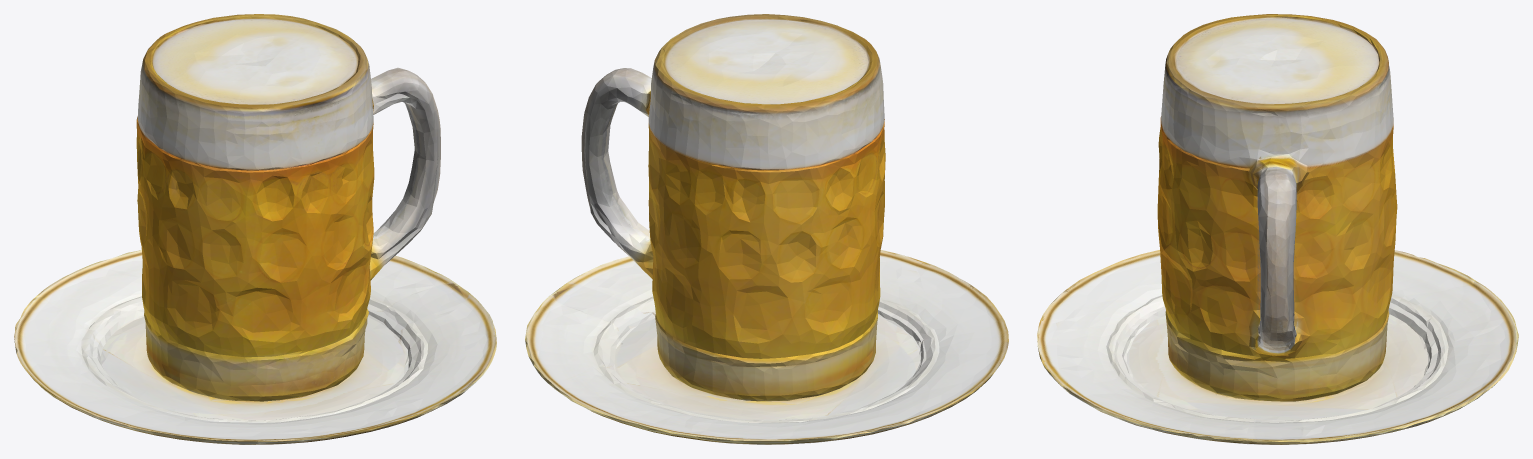
Rendered from Beer_0515150824_texture.fbx.
The picture shows the model from 3 angles, left to right: view 1: azimuth 30°, elevation 25°; view 2: azimuth 150°, elevation 25°; view 3: azimuth 270°, elevation 25°; orthographic projection.
Visible parts, largest first — view 1: temp; view 2: temp; view 3: temp.
Part boxes in pixels (<box>): temp: <box>14,14,496,444</box>; temp: <box>525,14,1008,444</box>; temp: <box>1037,14,1518,444</box>.
Bounding box in the file's own units: 200 × 142 × 199.
Materials: 1 (1 with a texture image).
